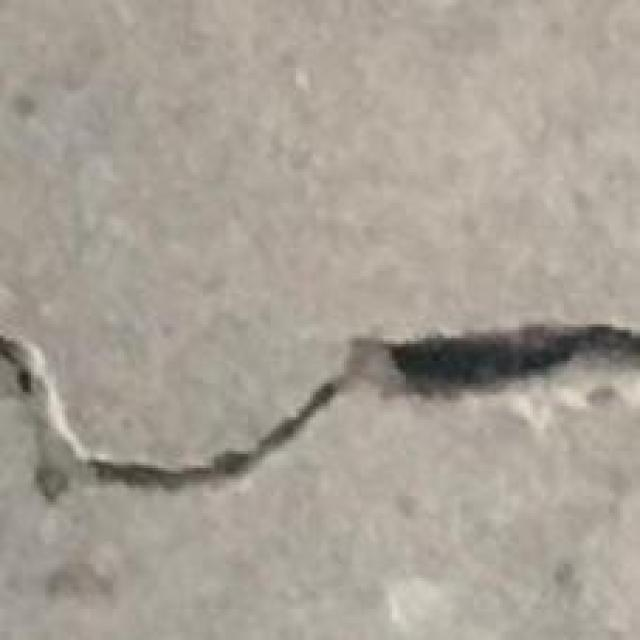Diagonal: (5, 329, 81, 533), (261, 332, 373, 454)
Transverse: (391, 320, 638, 406), (99, 444, 257, 504)
